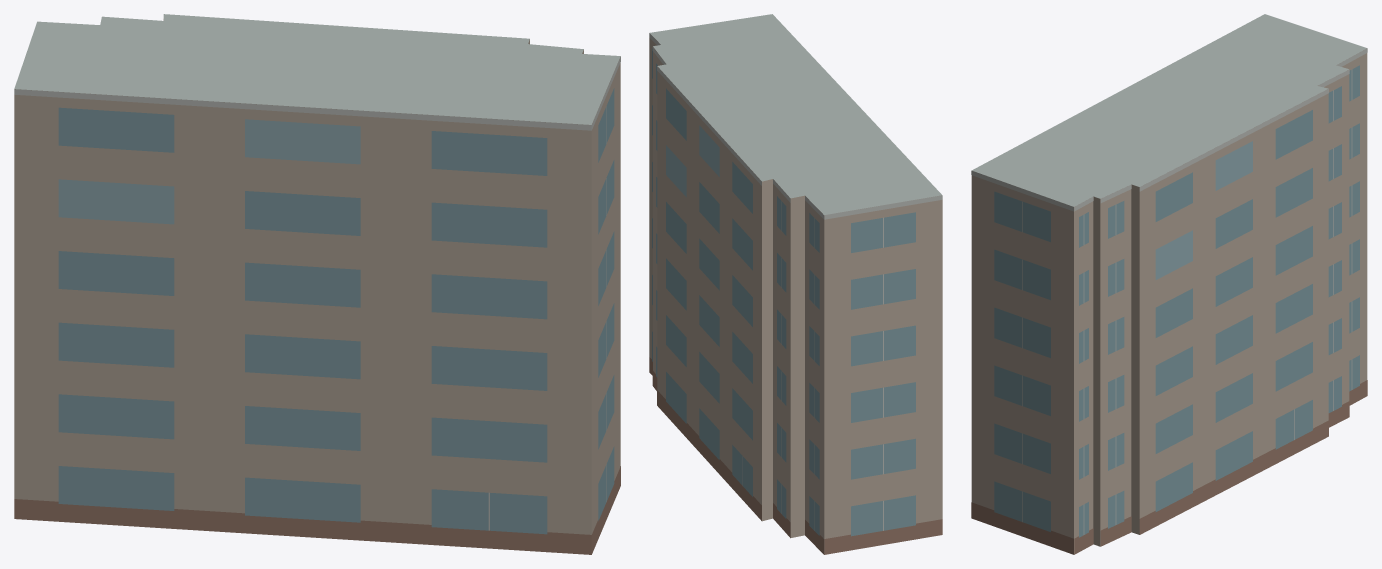
File: survey-upis-33020420.glb
3 renders of one model, left to right at view 1: azimuth 30°, elevation 25°; view 2: azimuth 150°, elevation 25°; view 3: azimuth 270°, elevation 25°, orthographic. The views are drawn at different scales.
Visible parts, largest first — view 1: survey-upis-33020420.tmp; view 2: survey-upis-33020420.tmp; view 3: survey-upis-33020420.tmp.
Part boxes in pixels (left/top/right/bottom): survey-upis-33020420.tmp: left=14, top=14, right=620, bottom=554; survey-upis-33020420.tmp: left=649, top=14, right=942, bottom=554; survey-upis-33020420.tmp: left=971, top=14, right=1367, bottom=554.
Size of the model in its own units: 21.66 by 18.2 by 18.78.
